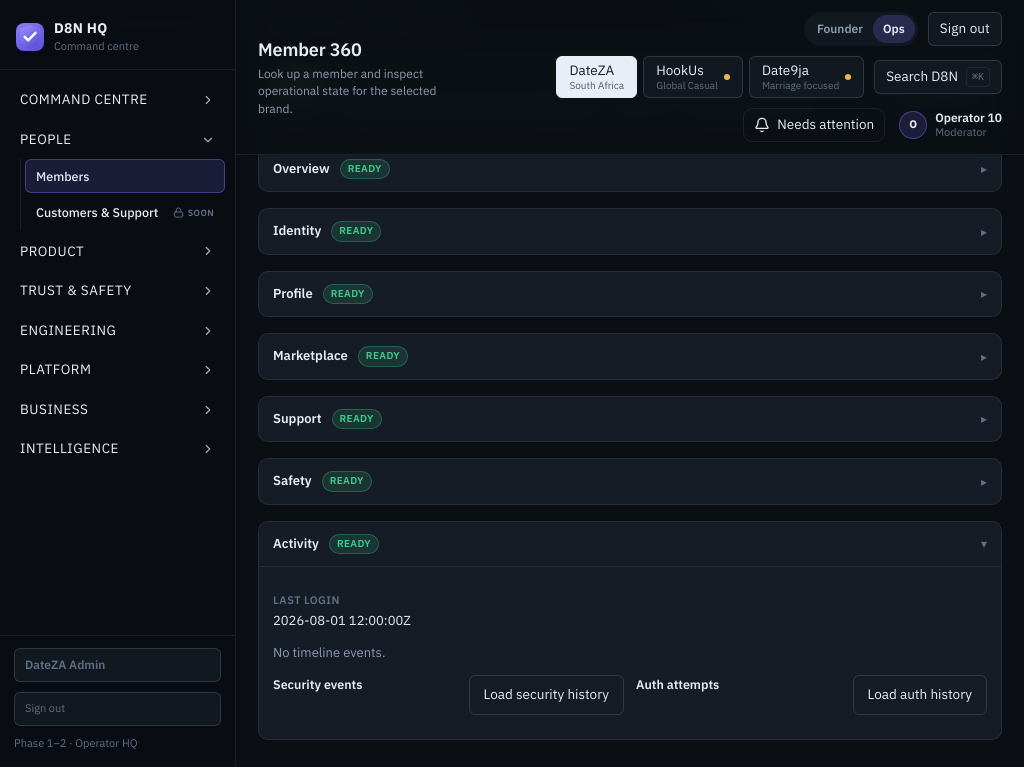
Test: D8N HQ Phase 1 integration › loads auth attempts and enforcement history on demand
(page scrolled)
Check: the heading "Lebo" is shown, box [273,64,321,93]
Click the button "Load auth history" at (920, 695), box [852,675,987,715]
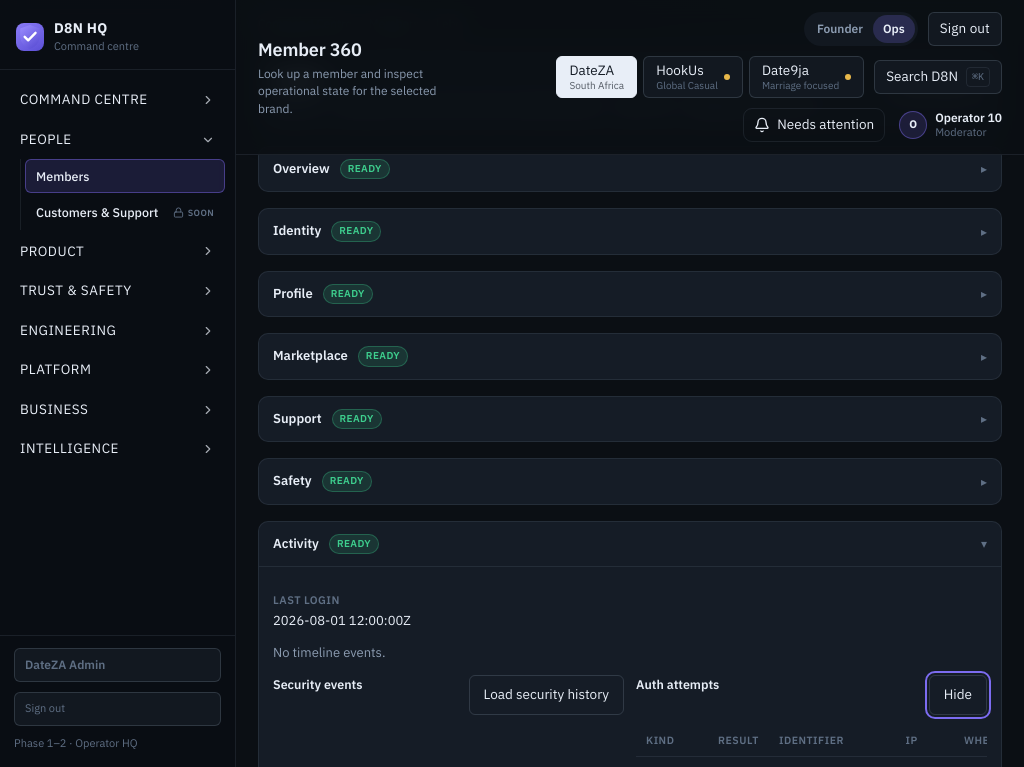
Click the button "Safety Ready ▸" at (292, 480), box [259,459,1001,504]
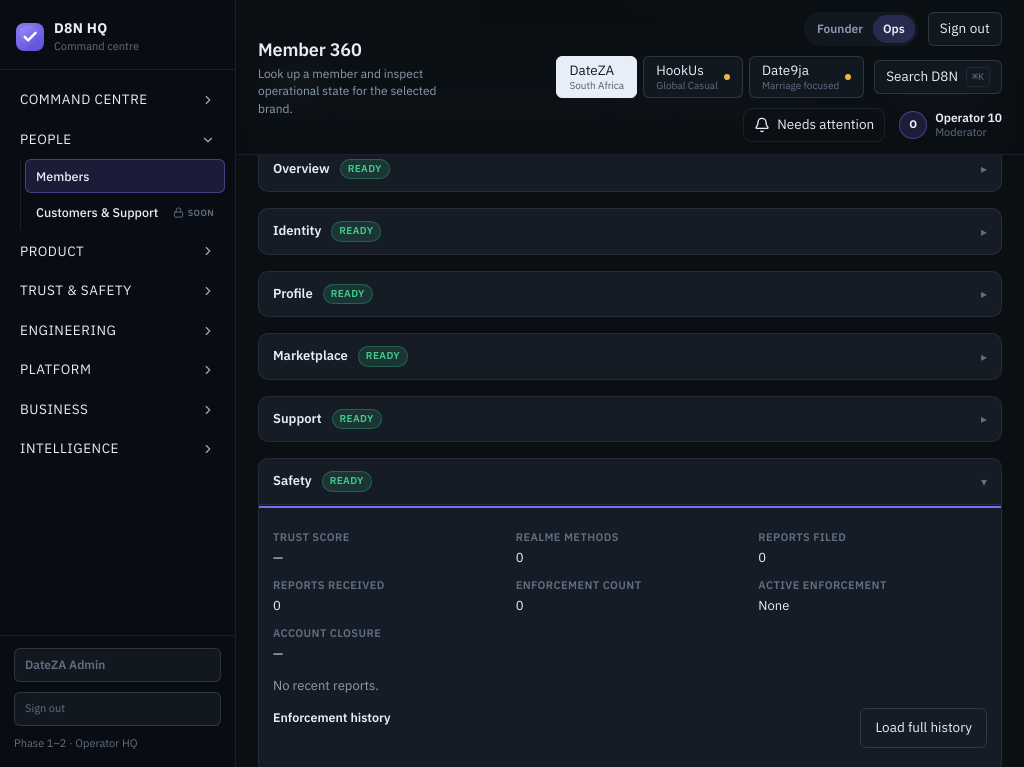
Click the button "Load full history" at (924, 728), box [860,708,987,748]
(page scrolled)
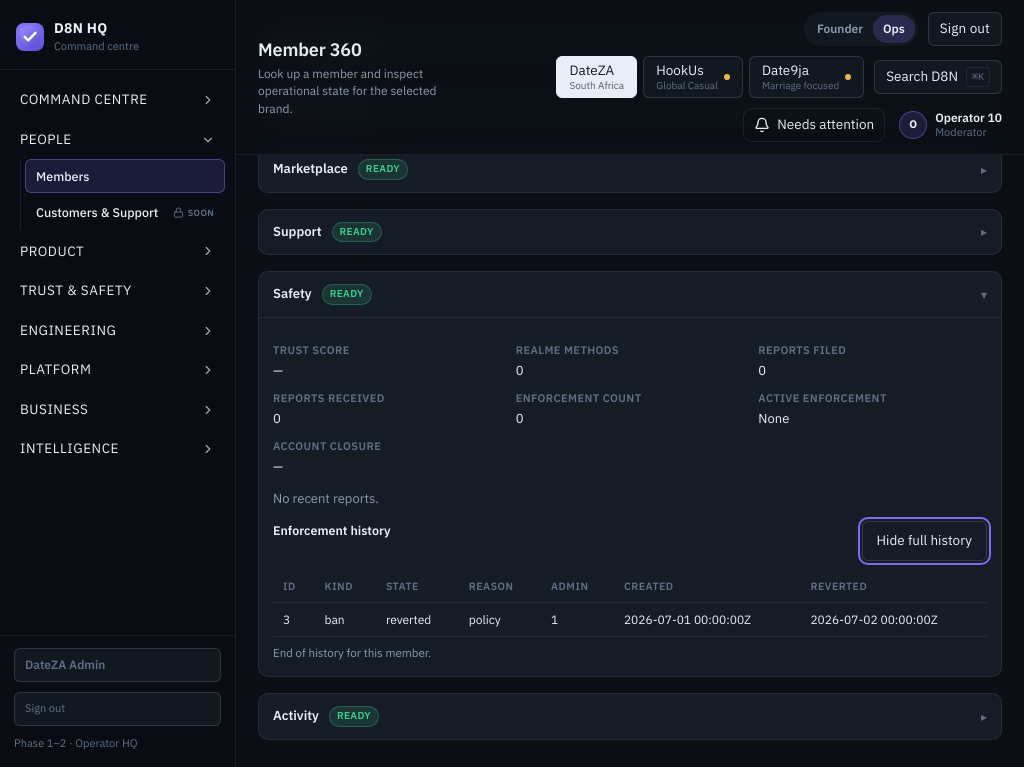
Check: the text "policy" is shown, box [469,612,501,627]
